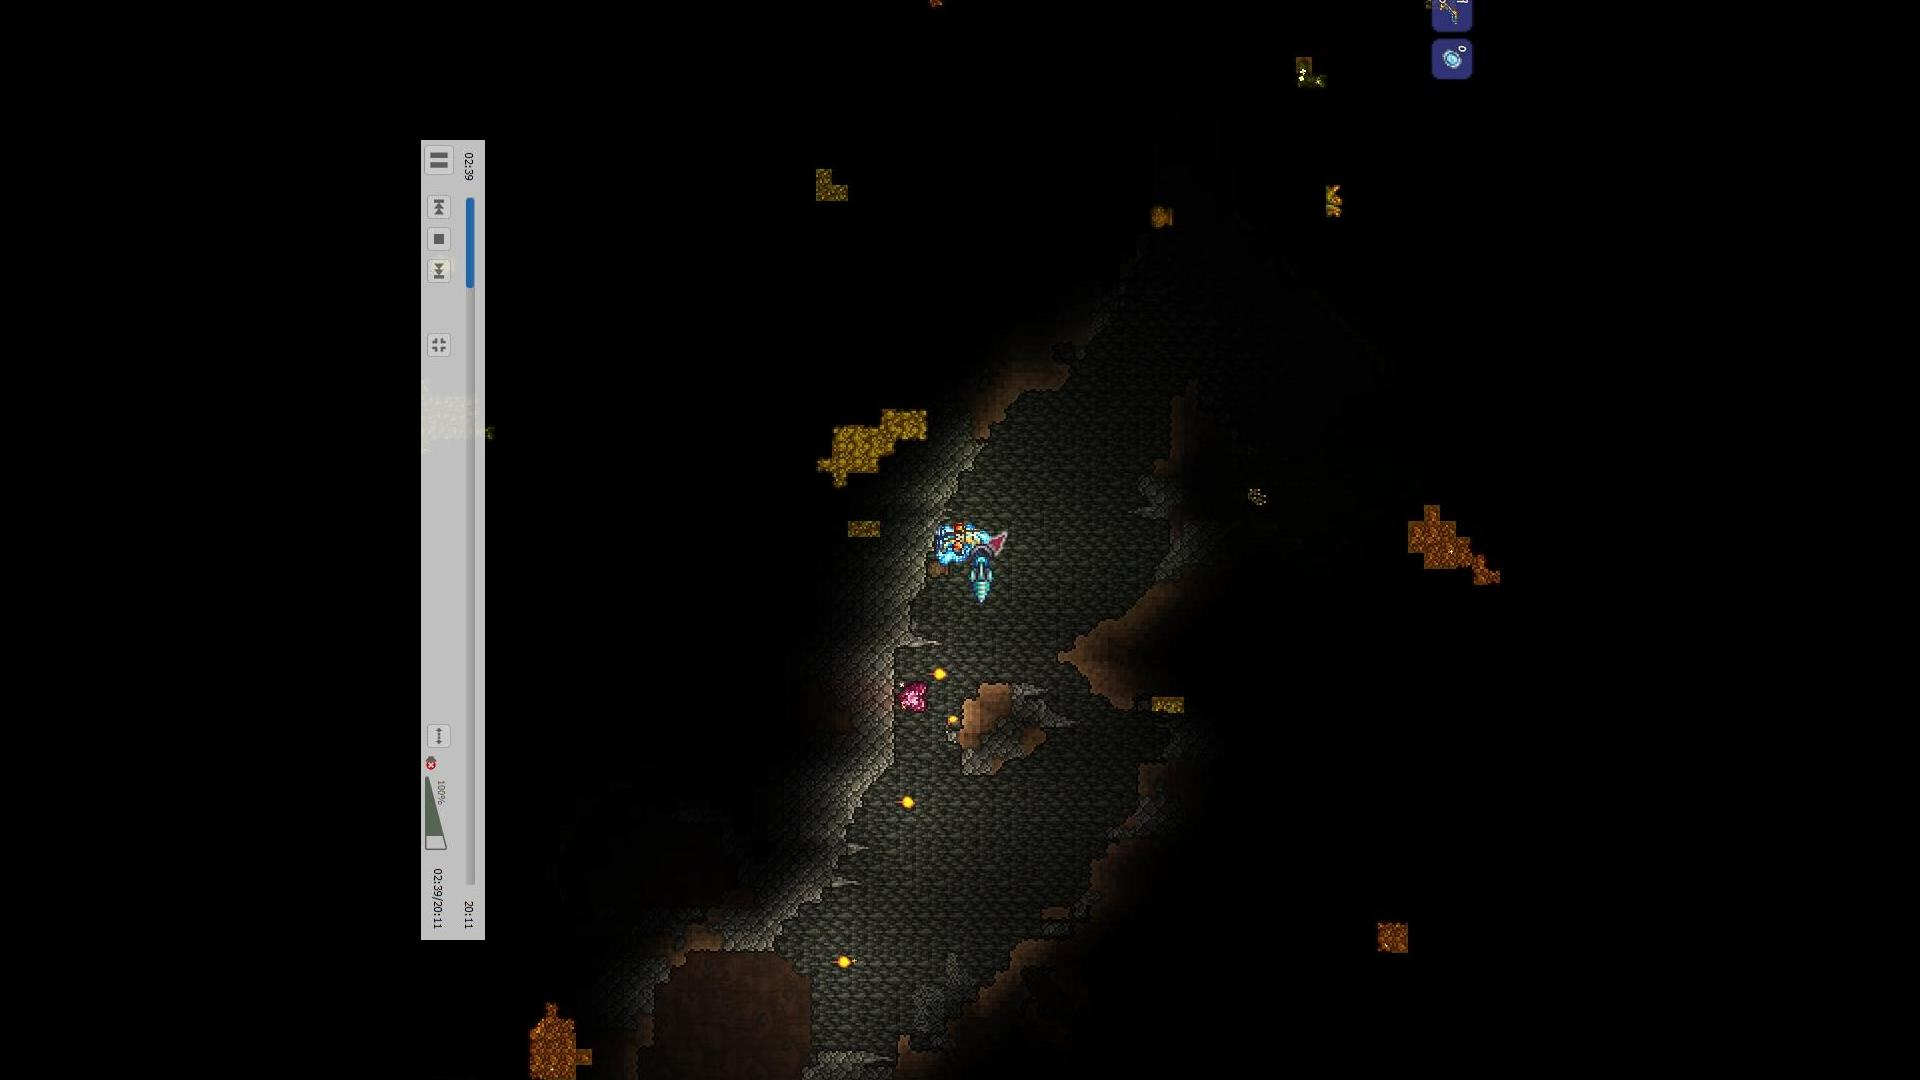lifeC: (894, 679, 928, 715)
pot: (1145, 204, 1179, 229)
